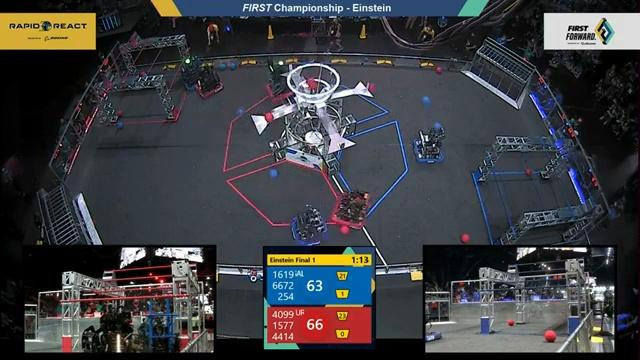robot: (263, 54, 303, 106), (288, 200, 328, 250), (408, 119, 449, 167), (331, 185, 371, 234), (194, 63, 230, 103), (178, 51, 208, 95)
